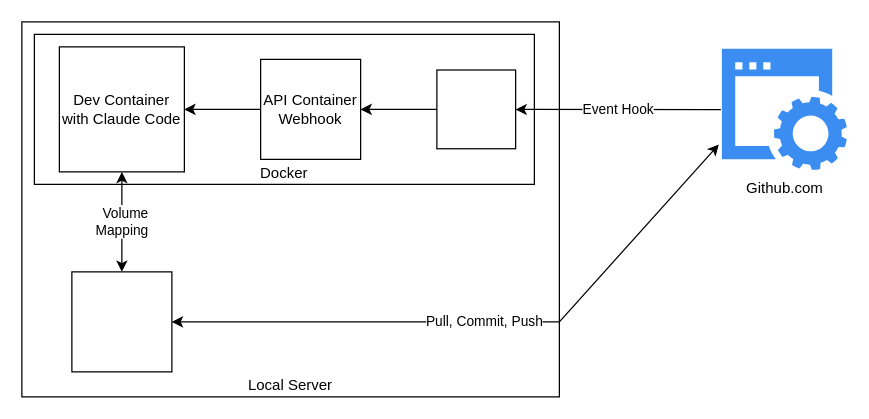
Some shapes in this 869 by 419 pixel diagram are drawn without their labels. The centre of each missing label's shape, as x and y in pixels:
"Cloudflare Tunnel" goes at (476,109).
"Code Repo in host" goes at (121,321).
